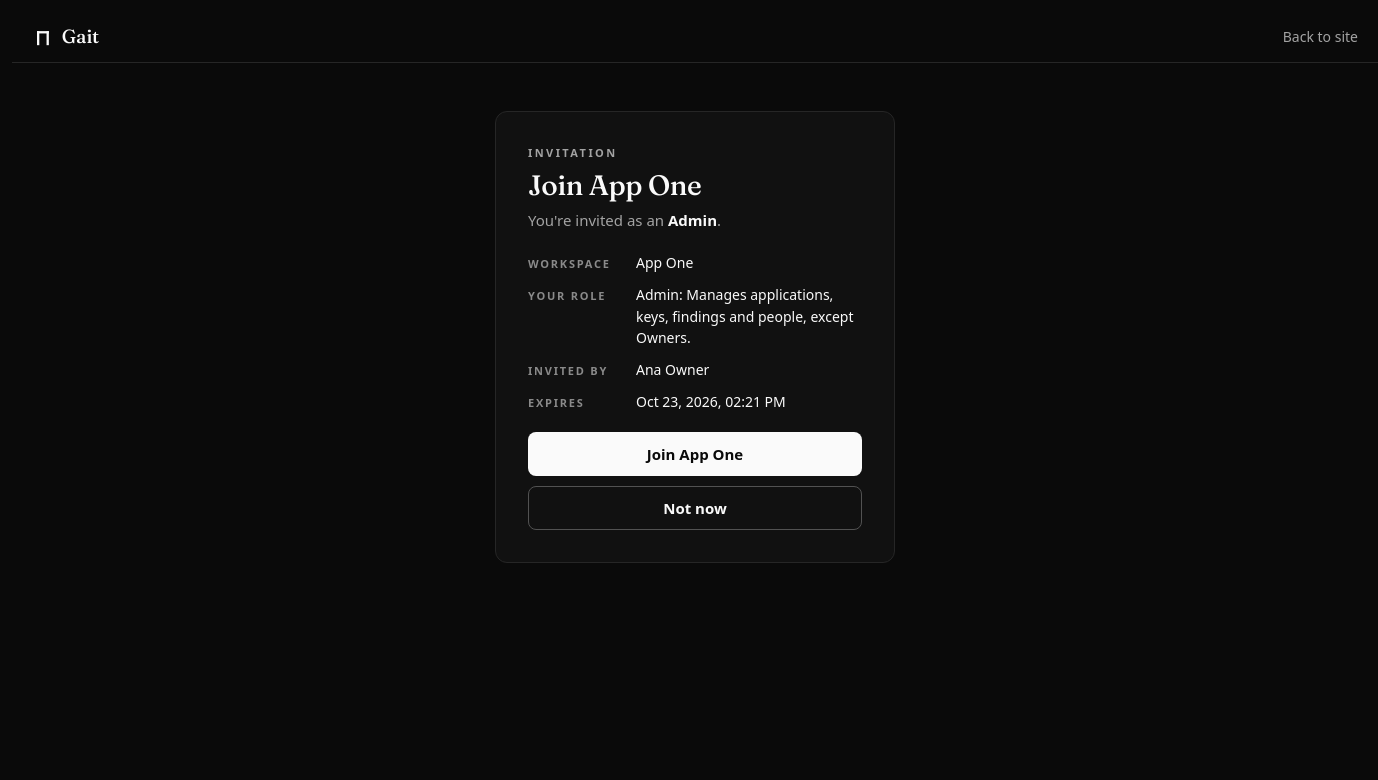
it: signed in › valid: confirms company, role, what it can do, inviter and expiry, then joins with a one-time welcome
Expected: the heading "Join App One" is shown, [528, 168, 701, 202]
Expected: the text "Manages applications, keys, findings and people, except Owners." is shown, [636, 285, 854, 347]
Click the button "Join App One" at (695, 454), box [528, 432, 862, 476]
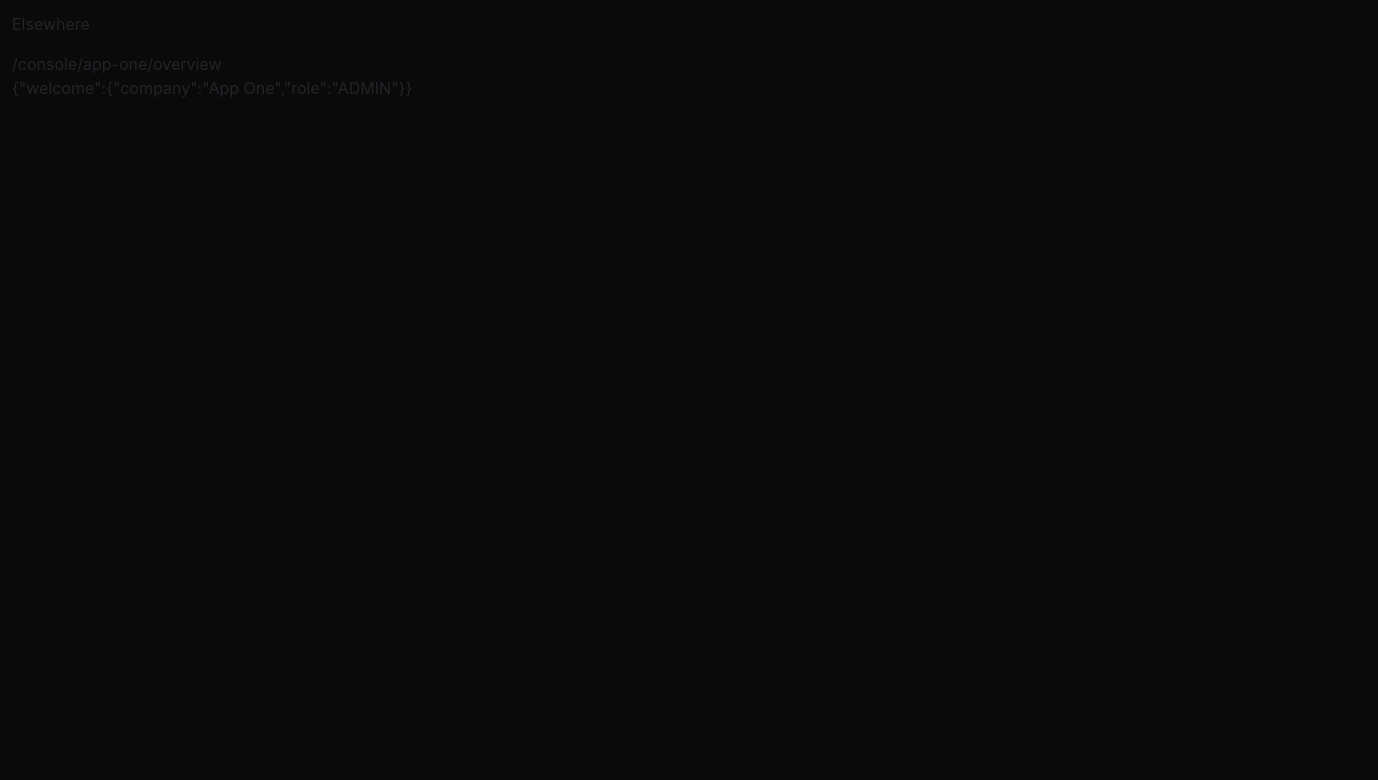
Expected: the text with test id "location" reads "/console/app-one/overview", [12, 54, 222, 74]
Expected: the text with test id "state" reads "{\"welcome\":{\"company\":\"App One\",\"role\":\"ADMIN\"}}", [12, 78, 412, 98]
